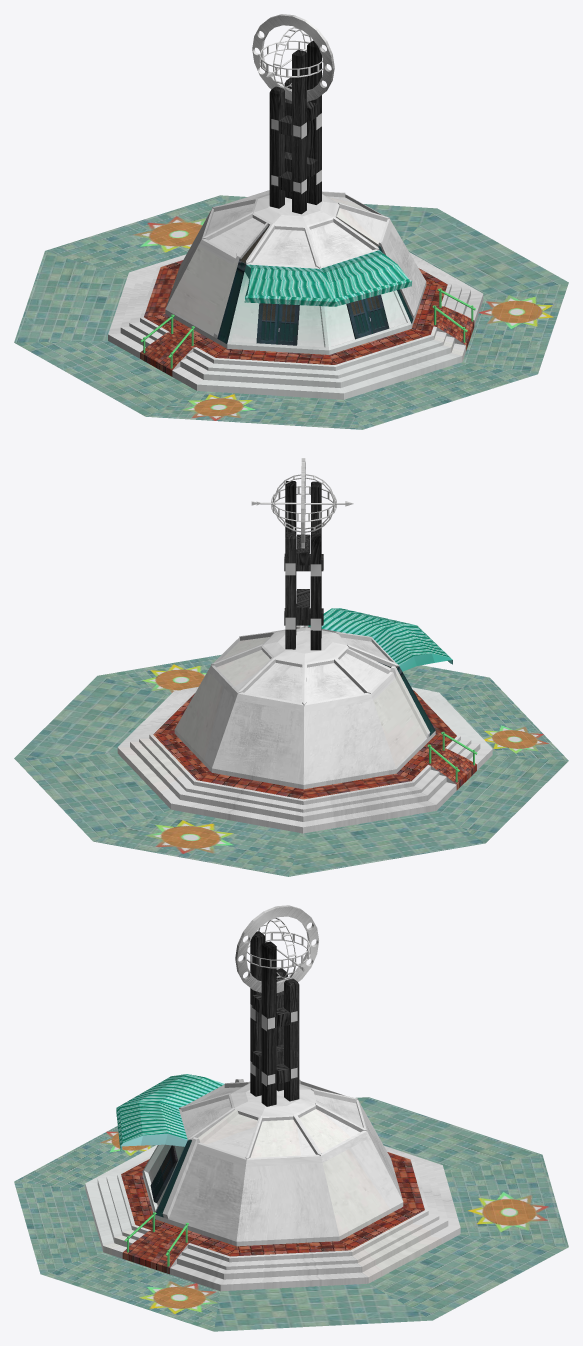
The model's file is tugu_katulistiwa_3d.glb.
The picture shows the model from 3 angles, top to bottom: view 1: azimuth 30°, elevation 25°; view 2: azimuth 150°, elevation 25°; view 3: azimuth 270°, elevation 25°; orthographic projection. The views are drawn at different scales.
Visible parts, largest first — view 1: tugu katulistiwa, Cube, Cube.001, Cylinder.003; view 2: tugu katulistiwa; view 3: tugu katulistiwa, Cube.001.
Boxes of the visible parts, x1,y1,x2,y2 form: tugu katulistiwa: (14, 14, 568, 429); Cube: (256, 303, 299, 345); Cube.001: (346, 294, 389, 339); Cylinder.003: (141, 288, 475, 368); tugu katulistiwa: (14, 458, 568, 876); tugu katulistiwa: (14, 905, 568, 1331); Cube.001: (150, 1145, 177, 1203).
Size of the model in its own units: 12.83 by 7.78 by 12.83.
7 materials, 6 textured.
